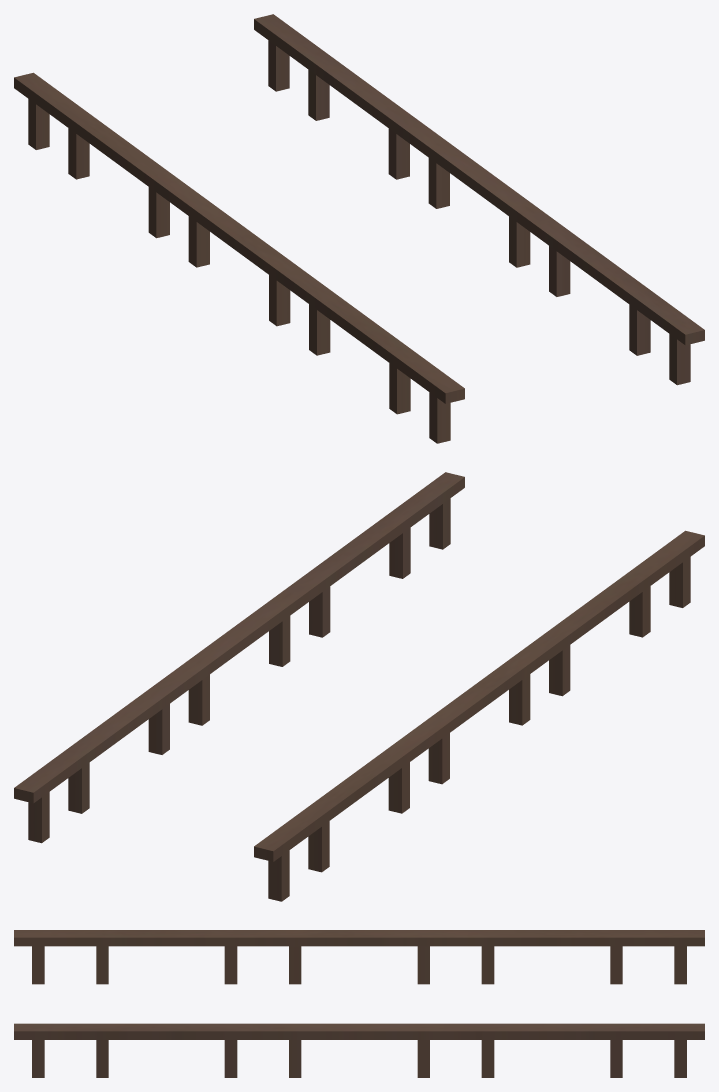
The model's file is bridge_rail.fbx.
3 views of the same model, one above another, from view 1: azimuth 30°, elevation 25°; view 2: azimuth 150°, elevation 25°; view 3: azimuth 270°, elevation 25° (orthographic). The views are drawn at different scales.
Visible parts, largest first — view 1: Bridge_rail; view 2: Bridge_rail; view 3: Bridge_rail.
Boxes of the visible parts, <box> form: Bridge_rail: <box>14,14,704,443</box>; Bridge_rail: <box>14,472,704,901</box>; Bridge_rail: <box>14,930,704,1077</box>.
Bounding box in the file's own units: 3.79 × 0.8302 × 10.9.
Materials: 1 (1 with a texture image).
